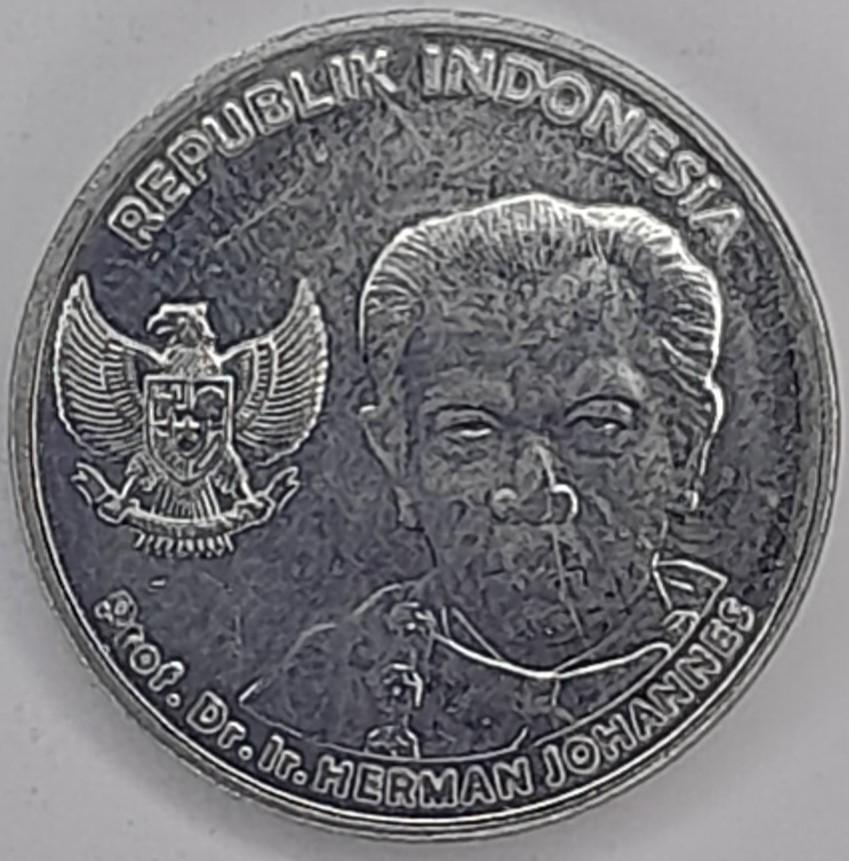coin_100_e2016: (2, 2, 846, 844)
